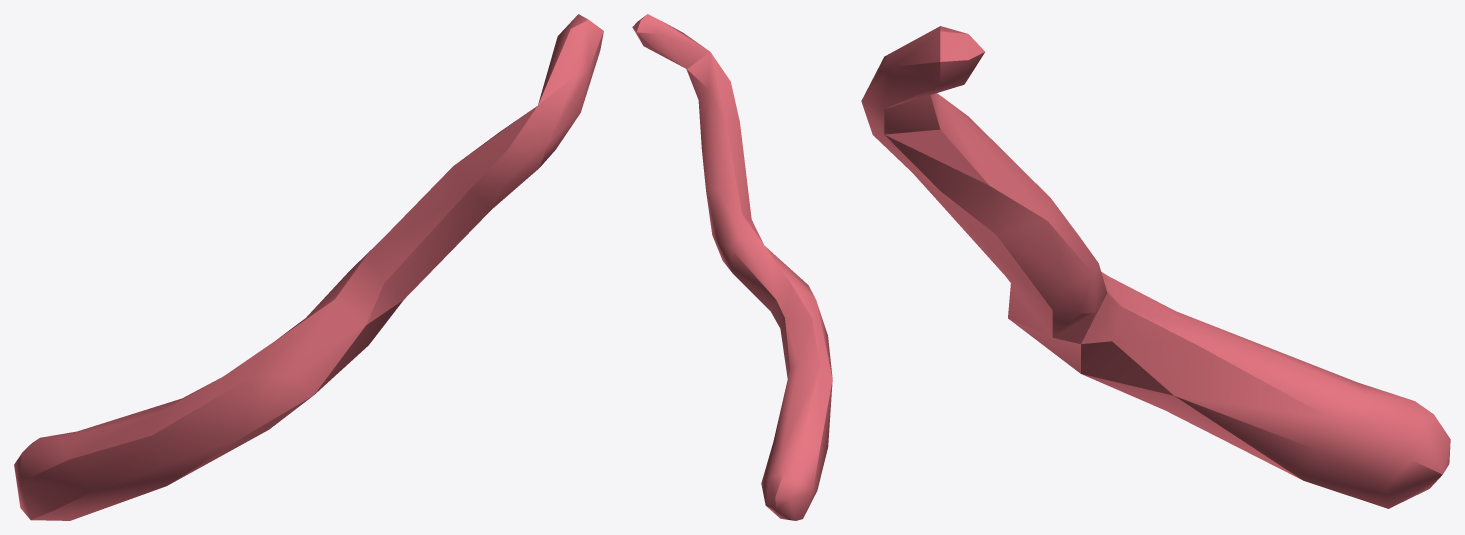
The model's file is fma4713_fj2683.glb.
The picture shows the model from 3 angles, left to right: view 1: azimuth 30°, elevation 25°; view 2: azimuth 150°, elevation 25°; view 3: azimuth 270°, elevation 25°; orthographic projection. The views are drawn at different scales.
Parts seen in each view (by area): view 1: FMA4713_FJ2683; view 2: FMA4713_FJ2683; view 3: FMA4713_FJ2683.
Boxes of the visible parts, box(x1,y1,x2,y2) form: FMA4713_FJ2683: box(14, 14, 603, 520); FMA4713_FJ2683: box(632, 14, 832, 520); FMA4713_FJ2683: box(861, 26, 1450, 508).
Bounding box in the file's own units: 0.00471 × 0.00567 × 0.0042.
